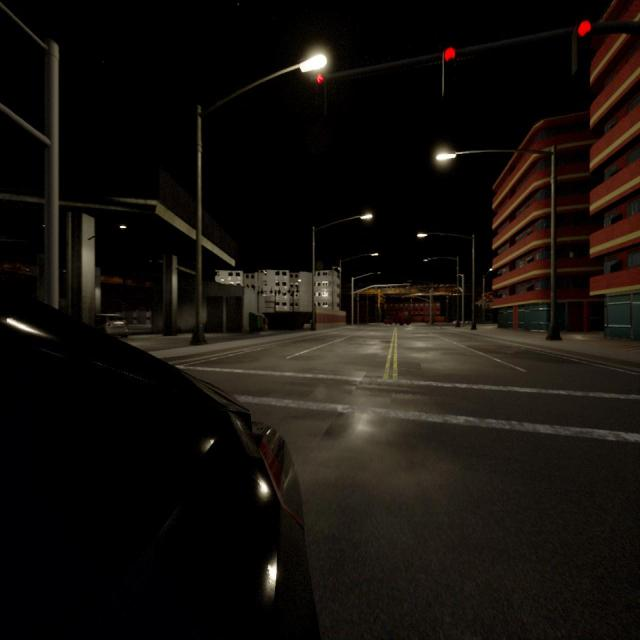Vehicle: (0, 292, 311, 638), (95, 315, 127, 336), (395, 311, 410, 325), (384, 317, 392, 325)
traffic_light: (574, 22, 590, 72), (443, 48, 455, 91), (316, 74, 326, 108), (401, 295, 404, 299), (412, 295, 414, 298)
